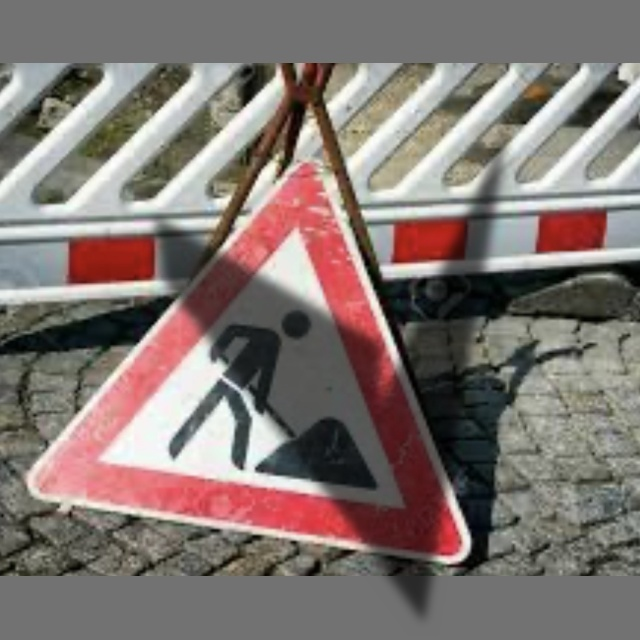Men_at_Work: (83, 173, 475, 564)
